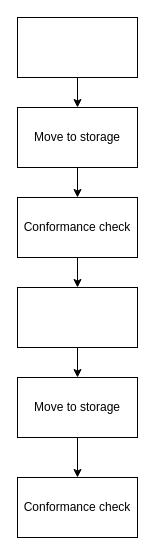
Image size: 155x555. Some labels were removed from this diagram. The shapes that lost their labels are listed below. From the top down, each one's centre as x and y in pixels, then its label:
the point at 77,47: New File
the point at 77,317: Transcoding
